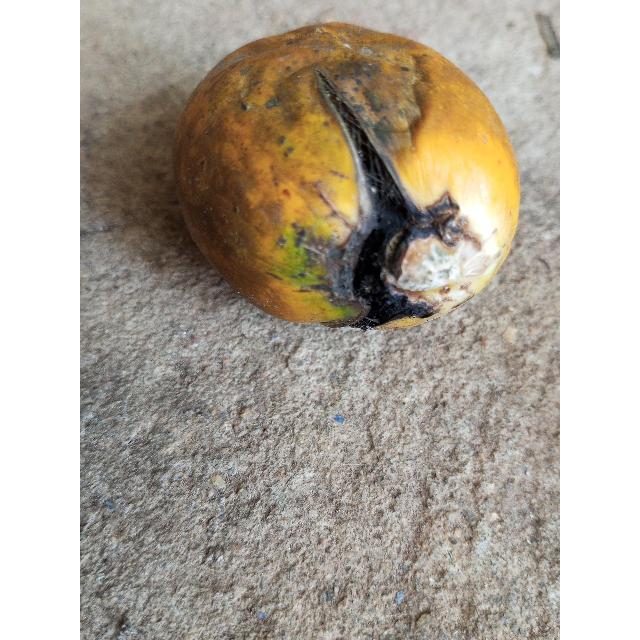damaged: (173, 21, 521, 332)
